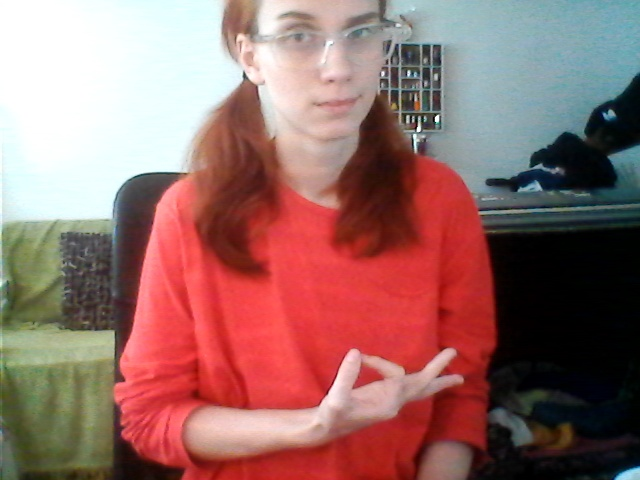co: (315, 338, 473, 439)
